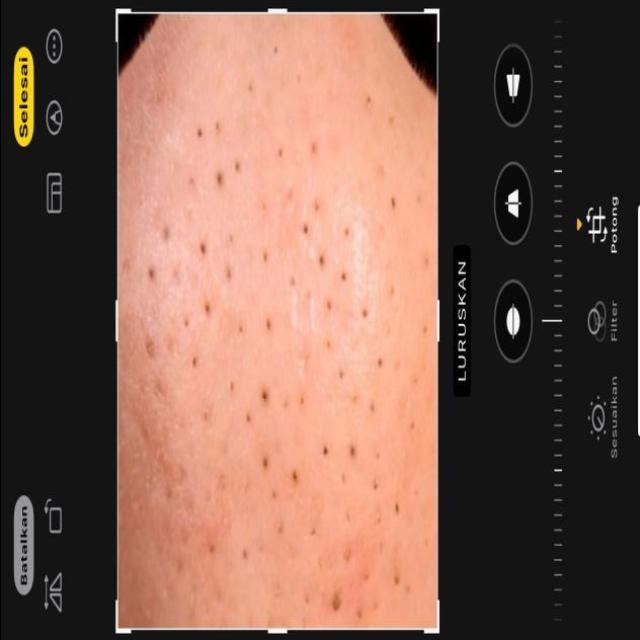blackhead: (145, 67, 436, 626)
